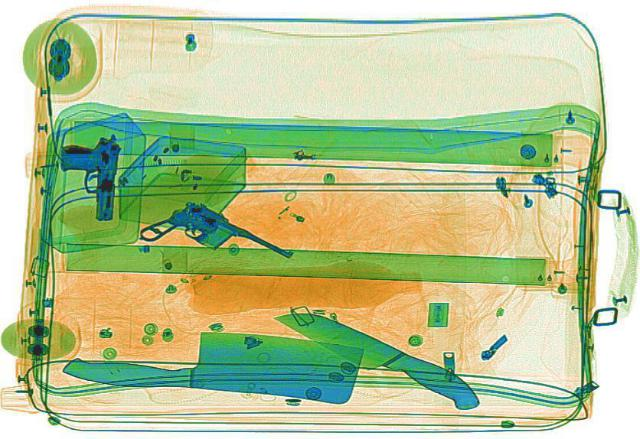Gun: (132, 193, 296, 290), (55, 135, 121, 220)
Knife: (262, 298, 496, 412), (59, 320, 363, 405)
